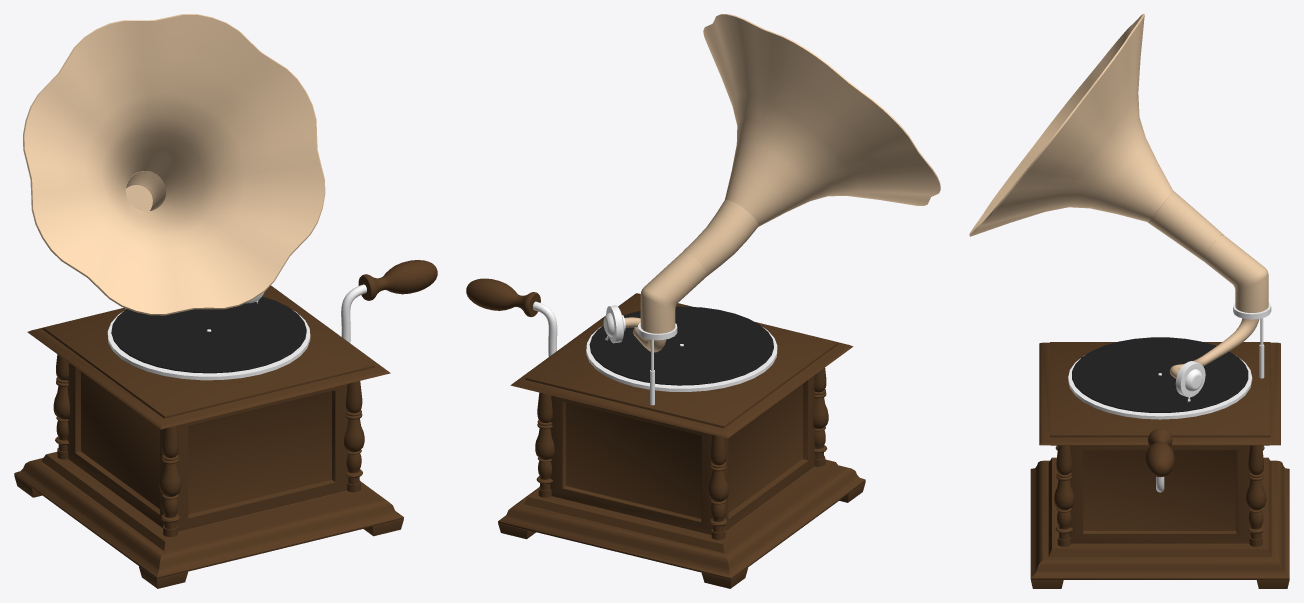
The model's file is gramophone.fbx.
3 renders of one model, left to right at view 1: azimuth 30°, elevation 25°; view 2: azimuth 150°, elevation 25°; view 3: azimuth 270°, elevation 25°, orthographic. The views are drawn at different scales.
Parts seen in each view (by area): view 1: horn, wooden base, record, crank handle, record platform, horn base, crank; view 2: wooden base, horn, record, horn base, crank handle, record platform, sound box; view 3: wooden base, horn, record, horn base, record platform, crank handle, tone arm, sound box, horn mount.
Boxes of the visible parts, x1,y1,x2,y2 form: horn: (23, 14, 325, 315); wooden base: (14, 285, 403, 588); record: (111, 296, 306, 373); crank handle: (358, 260, 437, 300); record platform: (107, 310, 310, 380); horn base: (125, 171, 165, 211); crank: (341, 284, 366, 342); wooden base: (498, 293, 865, 588); horn: (703, 14, 940, 226); record: (589, 306, 773, 385); horn base: (640, 200, 758, 333); crank handle: (466, 278, 540, 316); record platform: (586, 326, 777, 391); sound box: (603, 305, 625, 343); wooden base: (1030, 342, 1289, 588); horn: (969, 14, 1172, 236); record: (1072, 337, 1248, 412); horn base: (1148, 190, 1268, 312); record platform: (1068, 355, 1252, 419); crank handle: (1145, 429, 1174, 477); tone arm: (1169, 318, 1259, 378); sound box: (1175, 361, 1205, 402); horn mount: (1233, 303, 1271, 378).
Size of the model in its own units: 80.02 by 88.46 by 54.54.
